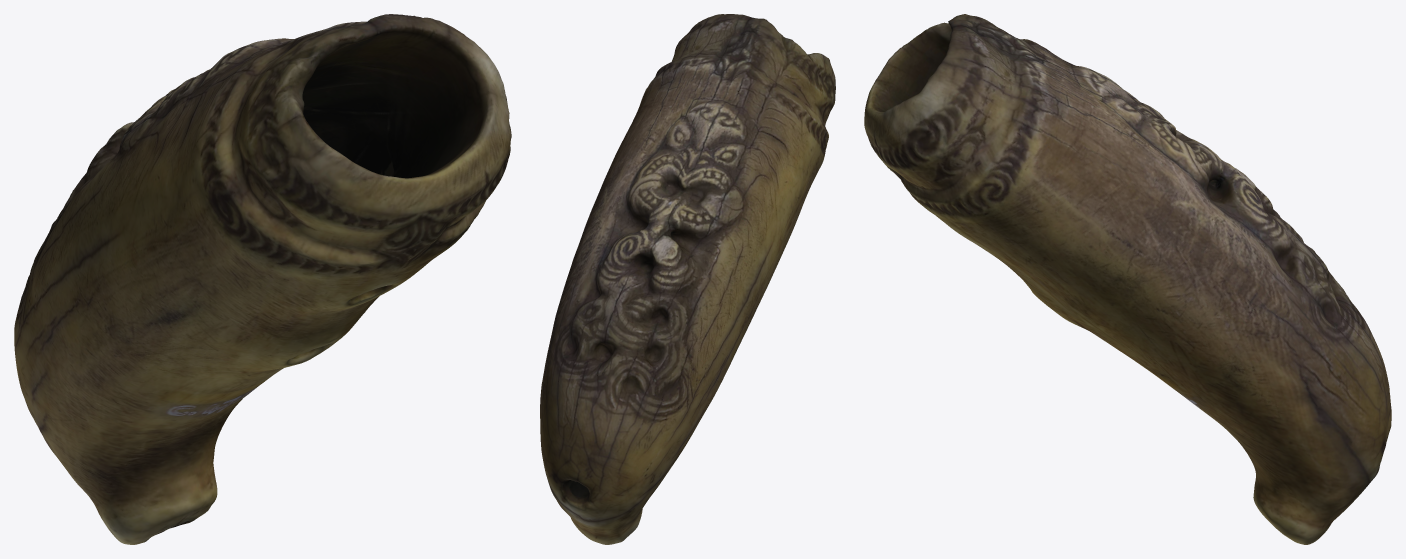
File: preview.glb
The picture shows the model from 3 angles, left to right: view 1: azimuth 30°, elevation 25°; view 2: azimuth 150°, elevation 25°; view 3: azimuth 270°, elevation 25°; orthographic projection. The views are drawn at different scales.
Visible parts, largest first — view 1: Object_2; view 2: Object_2; view 3: Object_2.
Boxes of the visible parts, left/top/right/bottom form: Object_2: left=14, top=14, right=511, bottom=544; Object_2: left=540, top=14, right=835, bottom=544; Object_2: left=864, top=14, right=1391, bottom=544.
Bounding box in the file's own units: 0.7713 × 1.81 × 1.69.
Materials: 1 (1 with a texture image).
